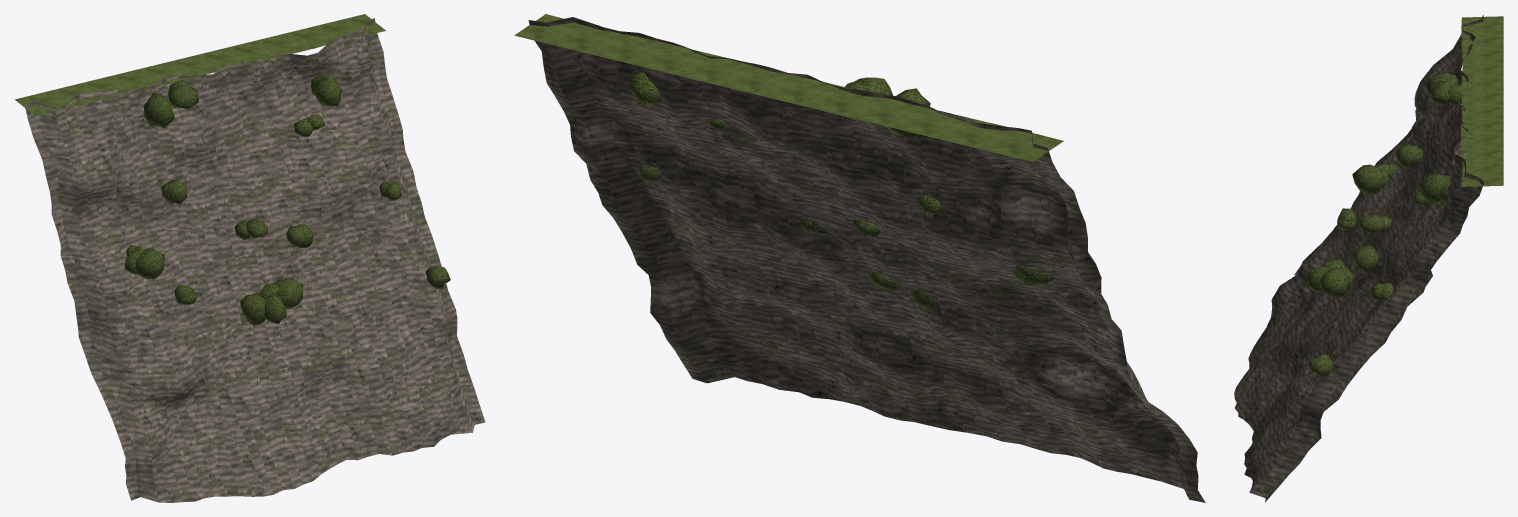
File: cliff_rock_a.gltf
3 renders of one model, left to right at view 1: azimuth 30°, elevation 25°; view 2: azimuth 150°, elevation 25°; view 3: azimuth 270°, elevation 25°, orthographic. The views are drawn at different scales.
Visible parts, largest first — view 1: cliff_rock_a_mesh; view 2: cliff_rock_a_mesh; view 3: cliff_rock_a_mesh.
Part boxes in pixels (left/top/right/bottom): cliff_rock_a_mesh: left=14, top=14, right=485, bottom=502; cliff_rock_a_mesh: left=514, top=14, right=1205, bottom=502; cliff_rock_a_mesh: left=1234, top=15, right=1503, bottom=502.
Bounding box in the file's own units: 48 × 43.17 × 32.27.
3 materials, 3 textured.
